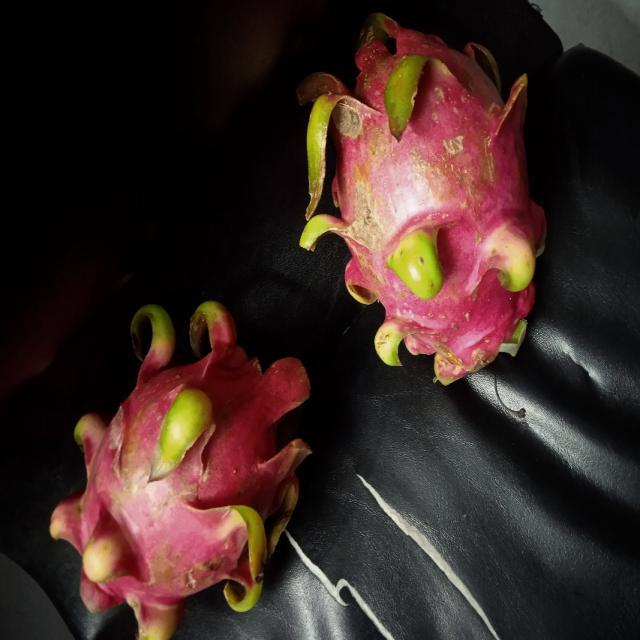do: (289, 6, 545, 392), (47, 302, 312, 639)
